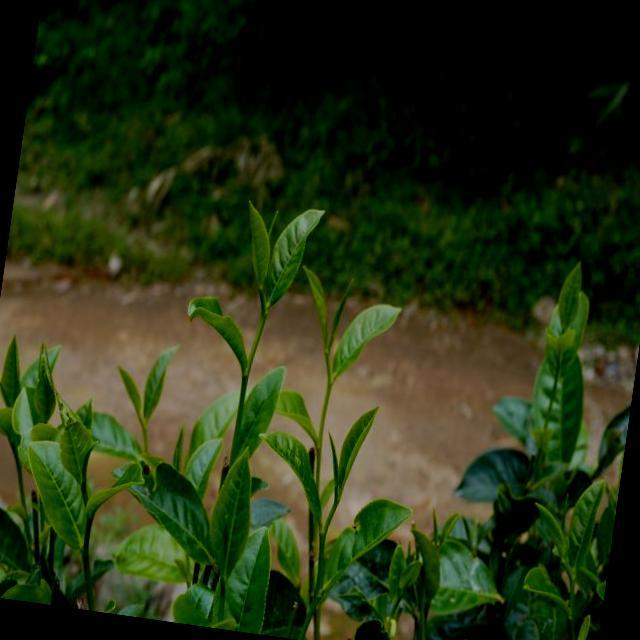Stem: (259, 316, 267, 325), (325, 352, 329, 359)
